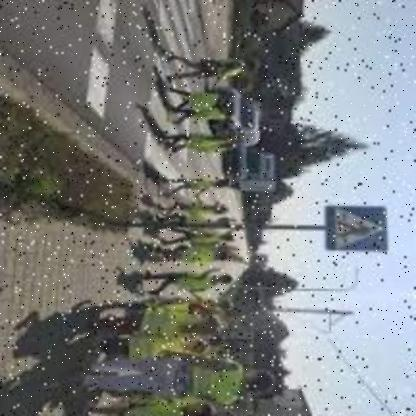Pedestrian Crossing: (323, 206, 388, 254)
